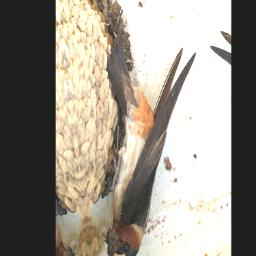Swallow: (85, 39, 220, 256)
